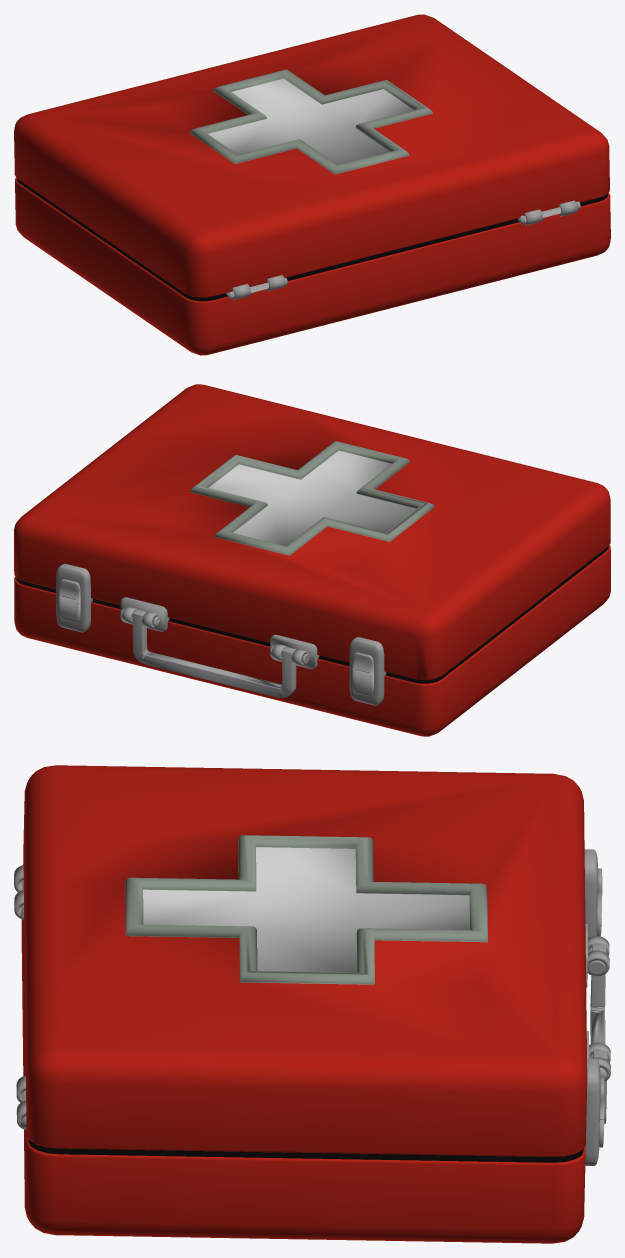
The model's file is medkit.glb.
3 views of the same model, one above another, from view 1: azimuth 30°, elevation 25°; view 2: azimuth 150°, elevation 25°; view 3: azimuth 270°, elevation 25° (orthographic). The views are drawn at different scales.
Visible parts, largest first — view 1: Cube; view 2: Cube; view 3: Cube.
Boxes of the visible parts, left/top/right/bottom form: Cube: left=14, top=14, right=610, bottom=355; Cube: left=14, top=384, right=610, bottom=736; Cube: left=14, top=765, right=610, bottom=1243.
Size of the model in its own units: 1.68 by 0.5073 by 1.36.
Materials: 3 (3 with a texture image).
